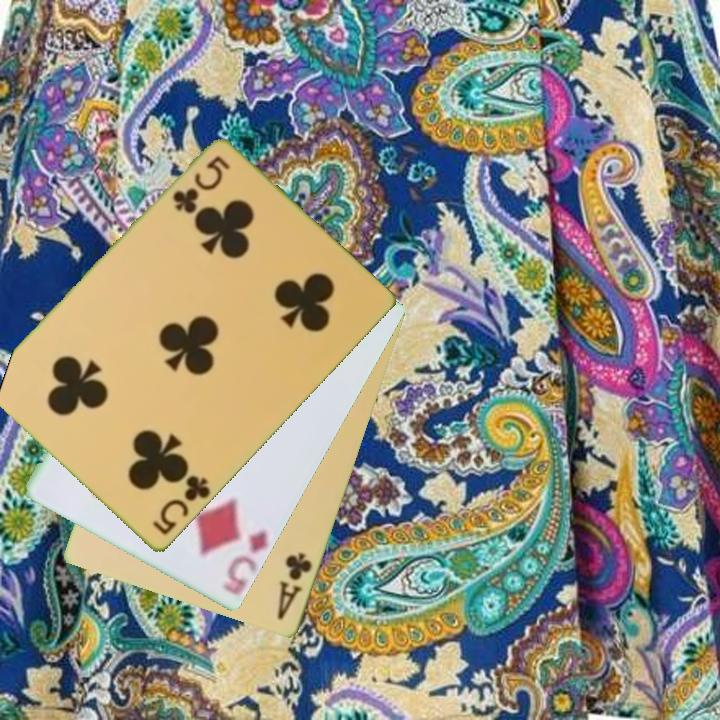5c: (148, 472, 214, 539), (168, 152, 233, 217)
5d: (222, 526, 271, 594)
Ac: (274, 549, 315, 623)
